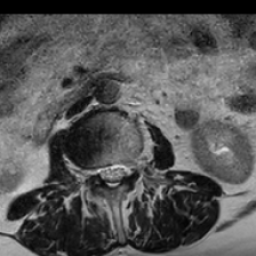CCS_normal: (107, 153, 117, 198)
LFS_normal: (127, 150, 137, 185)
LLS_normal: (117, 153, 127, 189)
RFS_stenosis: (88, 154, 98, 187)
RLS_normal: (98, 156, 107, 188)
